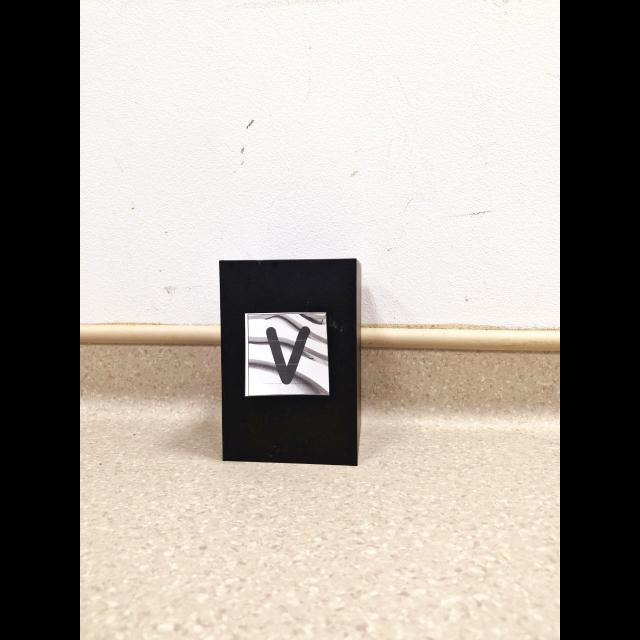V: (266, 326, 310, 384)
